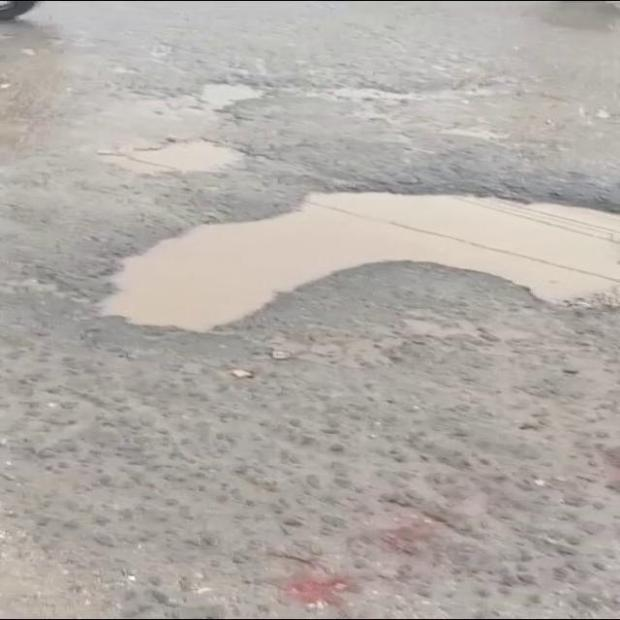lubang: (102, 194, 619, 330), (97, 131, 246, 174), (179, 85, 263, 124)
